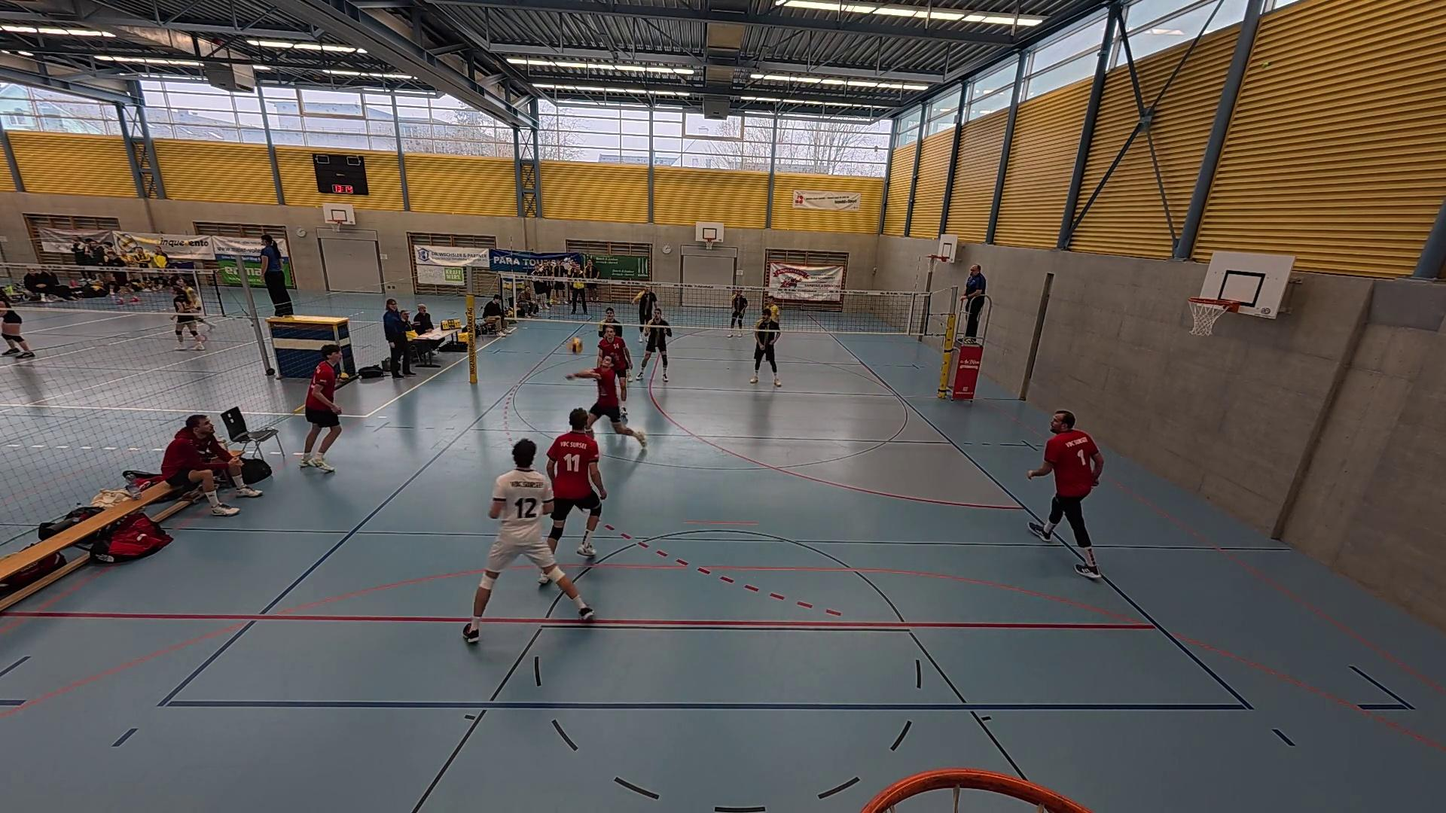Player: (463, 440, 595, 643), (1027, 410, 1103, 579), (544, 406, 606, 560), (300, 348, 344, 472), (596, 312, 633, 413), (639, 307, 672, 384), (751, 307, 782, 388), (633, 284, 657, 327), (597, 304, 623, 343), (729, 288, 749, 333)
Set: (564, 342, 649, 452)
ball: (568, 336, 585, 352)
